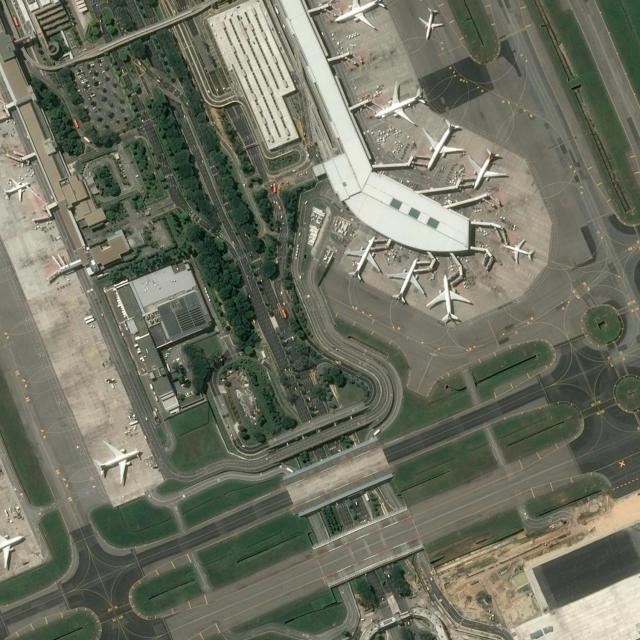Aircraft: (94, 440, 147, 484), (374, 82, 427, 124), (431, 271, 471, 322), (424, 119, 465, 165), (389, 258, 425, 304), (335, 0, 387, 31), (471, 148, 508, 188), (0, 526, 28, 571), (350, 237, 380, 277), (501, 239, 539, 265), (417, 6, 445, 38), (4, 176, 31, 200)
